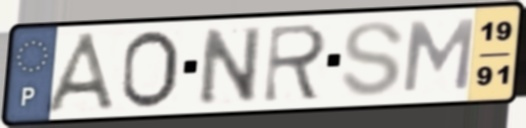A: (41, 29, 123, 113)
M: (398, 16, 478, 95)
N: (198, 23, 264, 108)
O: (117, 28, 180, 111)
R: (259, 21, 331, 105)
S: (338, 19, 408, 100)
